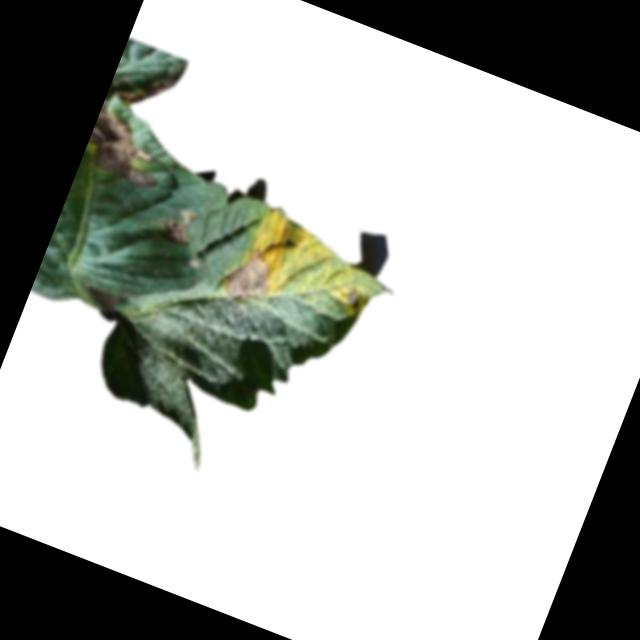Early_blight: (79, 53, 196, 193), (216, 233, 288, 313), (154, 200, 200, 252), (340, 280, 369, 311)
